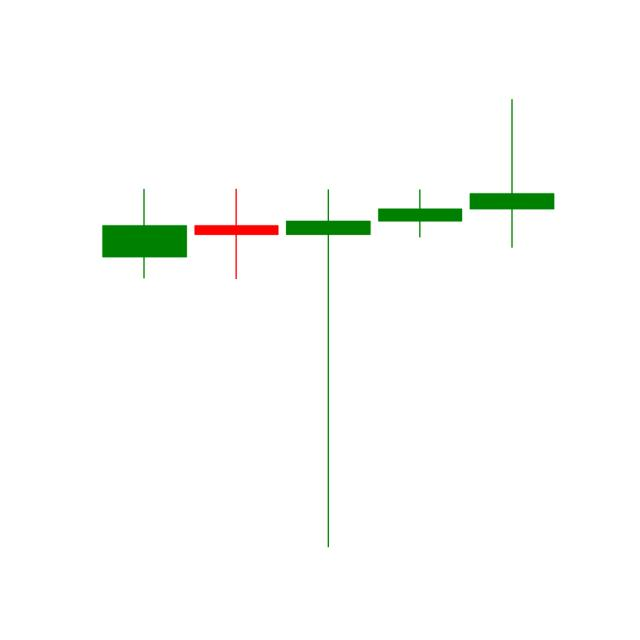Long-Legged Doji: (283, 185, 374, 552)
Standard Doji: (193, 188, 278, 279)
